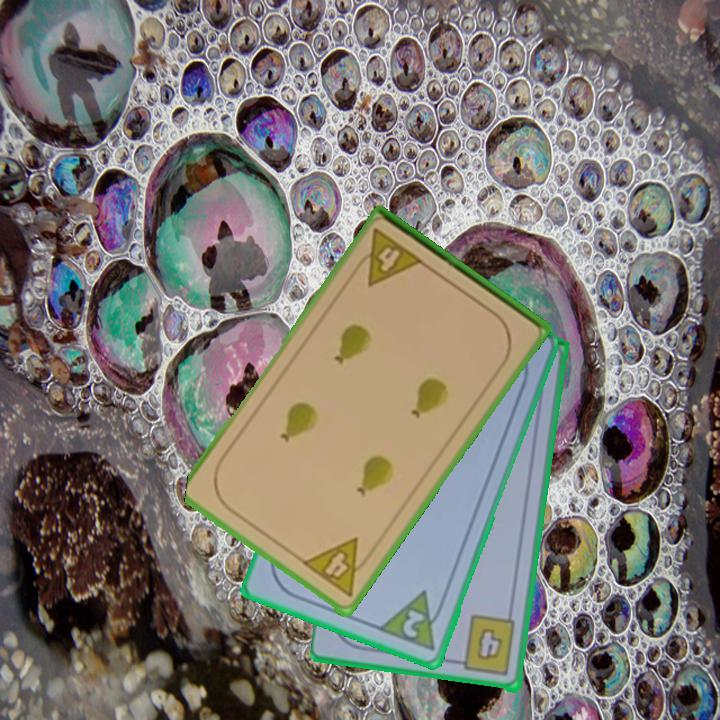2p: (399, 606, 429, 642)
4b: (450, 613, 519, 679)
4p: (298, 534, 377, 601), (349, 225, 427, 290)
